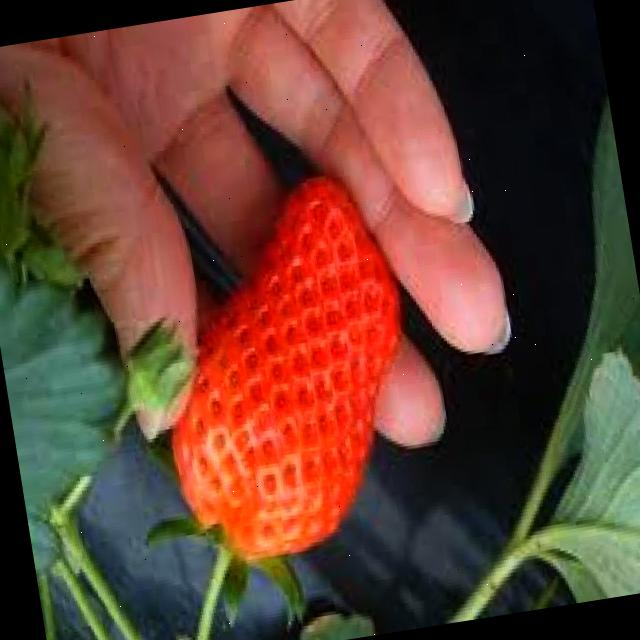strawberry: (132, 167, 436, 571)
